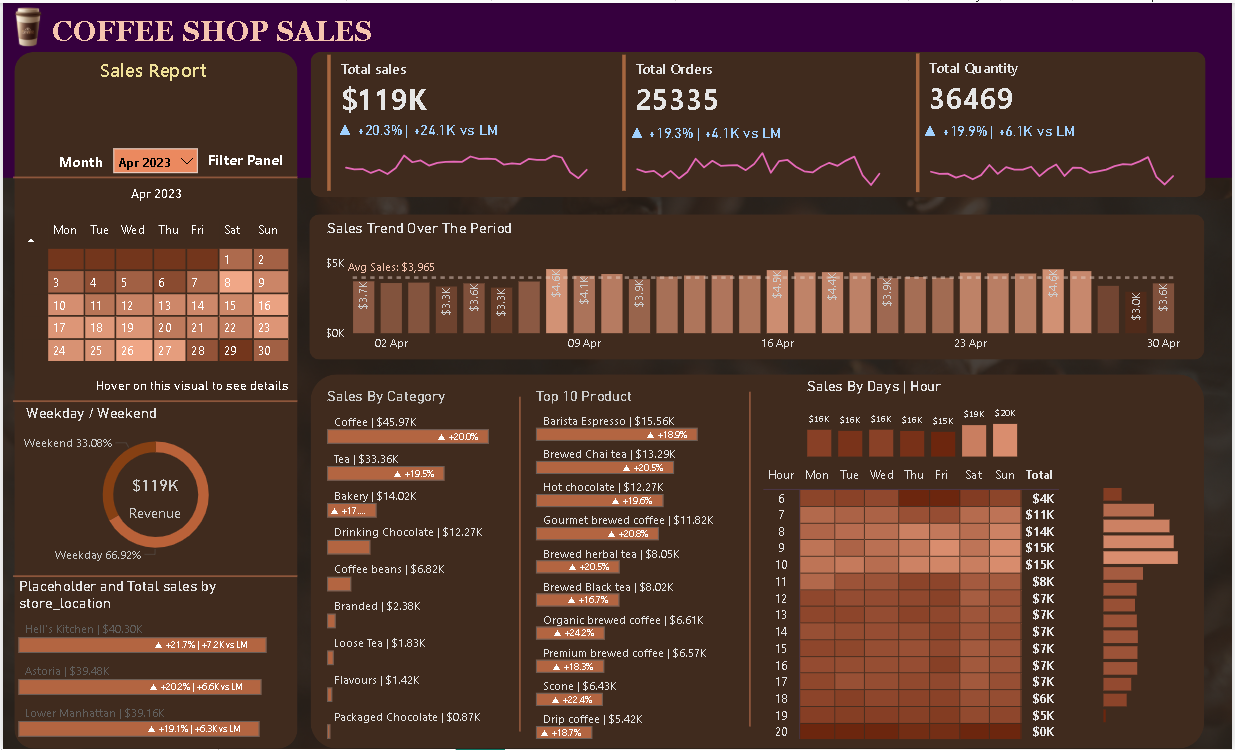

What the dashboard file says about the page in this screenshot:
{"tool":"powerbi","page":{"name":"Page 1","canvas":[1400,850],"ordinal":0},"visuals":[{"type":"shape","box":[0,0,1400.1,199.4],"z":0},{"type":"shape","box":[12.9,55.7,322.9,794.3],"z":1000},{"type":"shape","box":[350,55.7,1020,165.7],"z":2000},{"type":"textbox","box":[51.4,8,424.3,67.1],"z":3000},{"type":"cardVisual","fields":{"Data":["Transactions.Total Quantity"]},"box":[1035.7,52.9,312.8,168.4],"z":4000,"group":"g3"},{"type":"cardVisual","fields":{"Data":["Transactions.Total Orders"]},"box":[701.4,54.3,313.3,165.2],"z":4000,"group":"g2"},{"type":"cardVisual","fields":{"Data":["Transactions.Toatal sales"]},"box":[364.3,54.5,311.4,165.7],"z":4000,"group":"g1"},{"type":"slicer","fields":{"Values":["Date table.Month Year"]},"box":[121.4,161.4,105.7,35.7],"z":4000},{"type":"group","id":"g1","title":"Group 1","box":[364.3,54.5,315.3,167.6],"z":5000},{"type":"group","id":"g2","title":"Group 1","box":[701.4,54.3,312.9,167.1],"z":6000},{"type":"lineChart","fields":{"Category":["Date table.Date.Variation.Date Hierarchy.Year","Date table.Date.Variation.Date Hierarchy.Quarter","Date table.Date.Variation.Date Hierarchy.Month","Date table.Date.Variation.Date Hierarchy.Day"],"Y":["Transactions.Toatal sales"]},"box":[375.3,134.9,304.3,87.1],"z":6000,"group":"g1"},{"type":"lineChart","fields":{"Category":["Date table.Date.Variation.Date Hierarchy.Year","Date table.Date.Variation.Date Hierarchy.Quarter","Date table.Date.Variation.Date Hierarchy.Month","Date table.Date.Variation.Date Hierarchy.Day"],"Y":["Transactions.Total Quantity"]},"box":[1042.7,136,305.8,86.9],"z":6000,"group":"g3"},{"type":"lineChart","fields":{"Category":["Date table.Date.Variation.Date Hierarchy.Year","Date table.Date.Variation.Date Hierarchy.Quarter","Date table.Date.Variation.Date Hierarchy.Month","Date table.Date.Variation.Date Hierarchy.Day"],"Y":["Transactions.Total Orders"]},"box":[708.8,136.9,305.9,85.5],"z":6000,"group":"g2"},{"type":"group","id":"g3","title":"Group 1","box":[1035.7,52.9,312.9,170],"z":7000},{"type":"card","fields":{"Values":["Min(Date table.Month Year)"]},"box":[115.4,199.4,119.6,38.5],"z":8000},{"type":"pivotTable","fields":{"Rows":["Date table.Week Number"],"Columns":["Date table.Day Name"],"Values":["Min(Date table.Day Number)"]},"box":[17.1,240.7,324.7,213.6],"z":8000,"group":"g4"},{"type":"shape","box":[11.4,180,324.3,38.6],"z":9000},{"type":"card","fields":{"Values":["Transactions.Foot Note"]},"box":[89.7,417.3,252.1,39.9],"z":10000,"group":"g4"},{"type":"shape","box":[11.4,434.3,324.3,38.6],"z":10000},{"type":"group","id":"g4","title":"Group 2","box":[17.1,240.7,324.7,216.5],"z":11000},{"type":"donutChart","title":"Weekday / Weekend","fields":{"Category":["Date table.Weekday / Weekend"],"Y":["Transactions.Total sales"]},"box":[21.4,457.1,305.7,187.1],"z":12000},{"type":"card","fields":{"Values":["Transactions.Total sales"]},"box":[121.4,522.9,105.7,78.6],"z":13000},{"type":"shape","box":[11.4,634.3,324.3,38.6],"z":14000},{"type":"clusteredBarChart","fields":{"Y":["Transactions.Placeholder","Transactions.Total sales"],"Category":["Transactions.store_location"]},"box":[12.9,654.3,322.9,190],"z":15000},{"type":"shape","box":[348.6,240,1020,165.7],"z":16000},{"type":"columnChart","title":"Sales Trend Over The Period","fields":{"Category":["Transactions.transaction_date"],"Y":["Transactions.Total sales"]},"box":[364.3,245.7,981.4,160],"z":17000},{"type":"clusteredBarChart","title":"Sales By Category","fields":{"Y":["Transactions.Placeholder","Transactions.Total sales"],"Category":["Transactions.product_category"]},"box":[364.3,452.9,350,381.4],"z":18000},{"type":"shape","box":[350,423.3,1018.3,426.7],"z":19000},{"type":"clusteredBarChart","title":"Sales By Category","fields":{"Y":["Transactions.Placeholder","Transactions.Total sales"],"Category":["Transactions.product_category"]},"box":[364.3,437.1,224.3,407.1],"z":20000},{"type":"shape","box":[575.7,448.6,27.1,381.4],"z":21000},{"type":"clusteredBarChart","title":"Top 10 Product","fields":{"Y":["Transactions.Placeholder","Transactions.Total sales"],"Category":["Transactions.product_type"]},"box":[602.9,437.1,224,407.1],"z":22000},{"type":"shape","box":[840,442.9,21.4,381.4],"z":23000},{"type":"pivotTable","fields":{"Rows":["Transactions.Hour"],"Columns":["Date table.Day Name"],"Values":["Transactions.Total sales"]},"box":[861.7,522.7,387.4,327.6],"z":24000},{"type":"barChart","fields":{"Y":["Transactions.Total sales"],"Category":["Transactions.Hour"]},"box":[1249.1,539.8,119.6,284.9],"z":25000},{"type":"columnChart","title":"Sales By Days | Hour","fields":{"Y":["Transactions.Total sales"],"Category":["Date table.Day Name"]},"box":[911.4,425.7,250,97.1],"z":26000},{"type":"textbox","box":[51.4,164.3,75.7,35.7],"z":27000},{"type":"textbox","box":[105.7,55.7,137.1,48.6],"z":28000},{"type":"textbox","box":[227.1,161.4,100,31.4],"z":29000},{"type":"image","box":[0,0,57.1,54.3],"z":30000}]}

Visuals, with their boxes in screenshot pixels (x1, y1, x2, y2), scaled from the page's 1400x850 canvas onto the 1235x750 screenshot:
shape: x1=0, y1=0, x2=1234, y2=176
shape: x1=11, y1=49, x2=296, y2=749
shape: x1=309, y1=49, x2=1209, y2=195
textbox: x1=45, y1=7, x2=420, y2=66
cardVisual - Transactions.Total Quantity: x1=914, y1=47, x2=1190, y2=195
cardVisual - Transactions.Total Orders: x1=619, y1=48, x2=895, y2=194
cardVisual - Transactions.Toatal sales: x1=321, y1=48, x2=596, y2=194
slicer - Date table.Month Year: x1=107, y1=142, x2=200, y2=174
"Group 1" group: x1=321, y1=48, x2=600, y2=196
"Group 1" group: x1=619, y1=48, x2=895, y2=195
lineChart - Date table.Date.Variation.Date Hierarchy.Year x Date table.Date.Variation.Date Hierarchy.Quarter: x1=331, y1=119, x2=600, y2=196
lineChart - Date table.Date.Variation.Date Hierarchy.Year x Date table.Date.Variation.Date Hierarchy.Quarter: x1=920, y1=120, x2=1190, y2=197
lineChart - Date table.Date.Variation.Date Hierarchy.Year x Date table.Date.Variation.Date Hierarchy.Quarter: x1=625, y1=121, x2=895, y2=196
"Group 1" group: x1=914, y1=47, x2=1190, y2=197
card - Min(Date table.Month Year): x1=102, y1=176, x2=207, y2=210
pivotTable - Date table.Week Number x Date table.Day Name: x1=15, y1=212, x2=302, y2=401
shape: x1=10, y1=159, x2=296, y2=193
card - Transactions.Foot Note: x1=79, y1=368, x2=302, y2=403
shape: x1=10, y1=383, x2=296, y2=417
"Group 2" group: x1=15, y1=212, x2=302, y2=403
"Weekday / Weekend" donutChart: x1=19, y1=403, x2=289, y2=568
card - Transactions.Total sales: x1=107, y1=461, x2=200, y2=531
shape: x1=10, y1=560, x2=296, y2=594
clusteredBarChart - Transactions.Placeholder x Transactions.Total sales: x1=11, y1=577, x2=296, y2=745
shape: x1=308, y1=212, x2=1207, y2=358
"Sales Trend Over The Period" columnChart: x1=321, y1=217, x2=1187, y2=358
"Sales By Category" clusteredBarChart: x1=321, y1=400, x2=630, y2=736
shape: x1=309, y1=374, x2=1207, y2=749
"Sales By Category" clusteredBarChart: x1=321, y1=386, x2=519, y2=745
shape: x1=508, y1=396, x2=532, y2=732
"Top 10 Product" clusteredBarChart: x1=532, y1=386, x2=729, y2=745
shape: x1=741, y1=391, x2=760, y2=727
pivotTable - Transactions.Hour x Date table.Day Name: x1=760, y1=461, x2=1102, y2=749
barChart - Transactions.Total sales x Transactions.Hour: x1=1102, y1=476, x2=1207, y2=728
"Sales By Days | Hour" columnChart: x1=804, y1=376, x2=1025, y2=461
textbox: x1=45, y1=145, x2=112, y2=176
textbox: x1=93, y1=49, x2=214, y2=92
textbox: x1=200, y1=142, x2=289, y2=170
image: x1=0, y1=0, x2=50, y2=48
